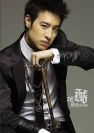male: (18, 3, 71, 64)
